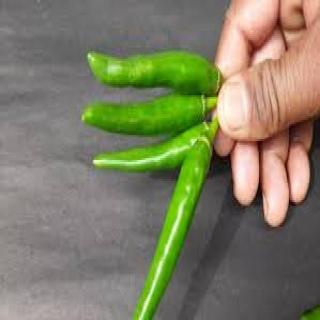Cabai Hijau: (134, 138, 216, 319), (84, 47, 224, 95), (80, 97, 208, 137), (296, 302, 320, 319)
